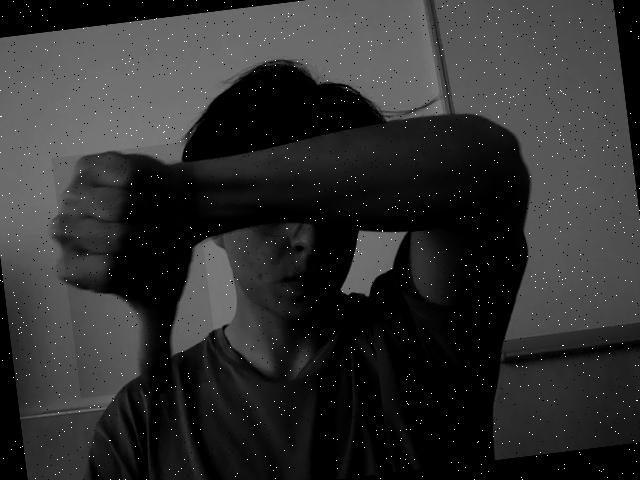bad: (51, 140, 220, 398)
